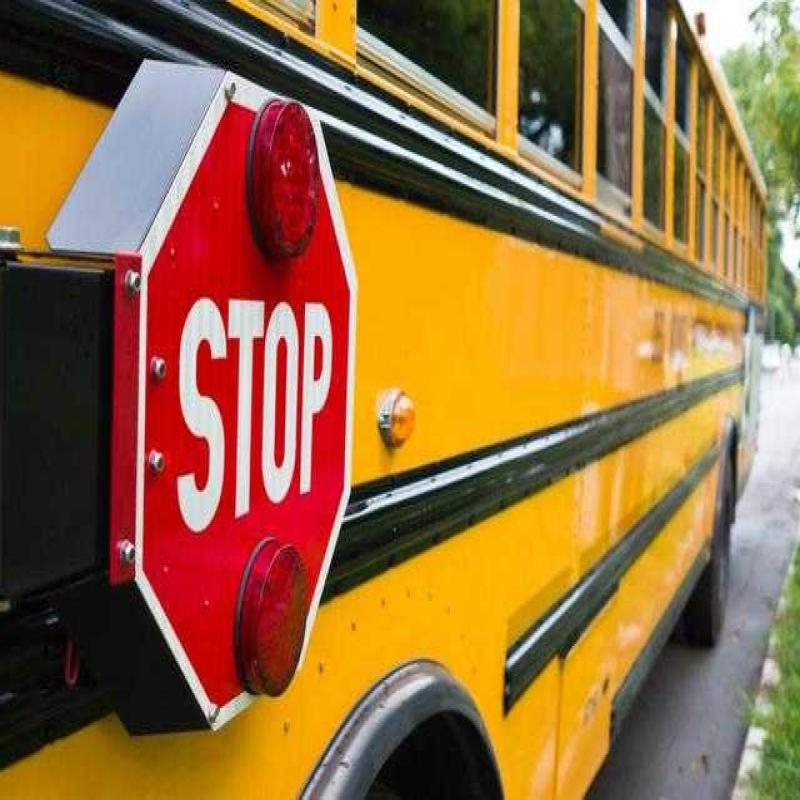bus: (34, 20, 800, 800)
